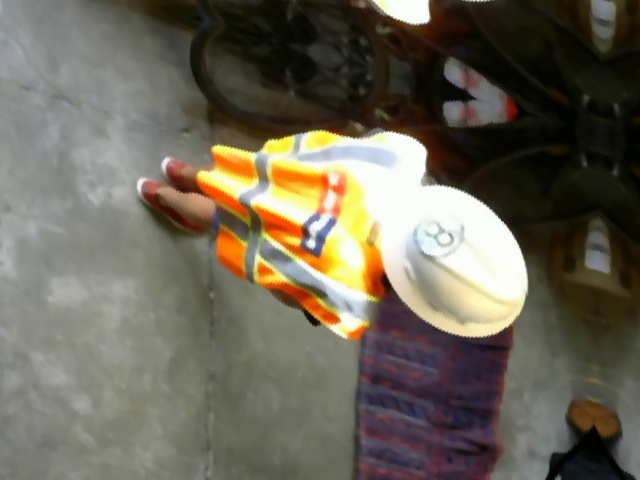eight: (410, 200, 465, 265)
